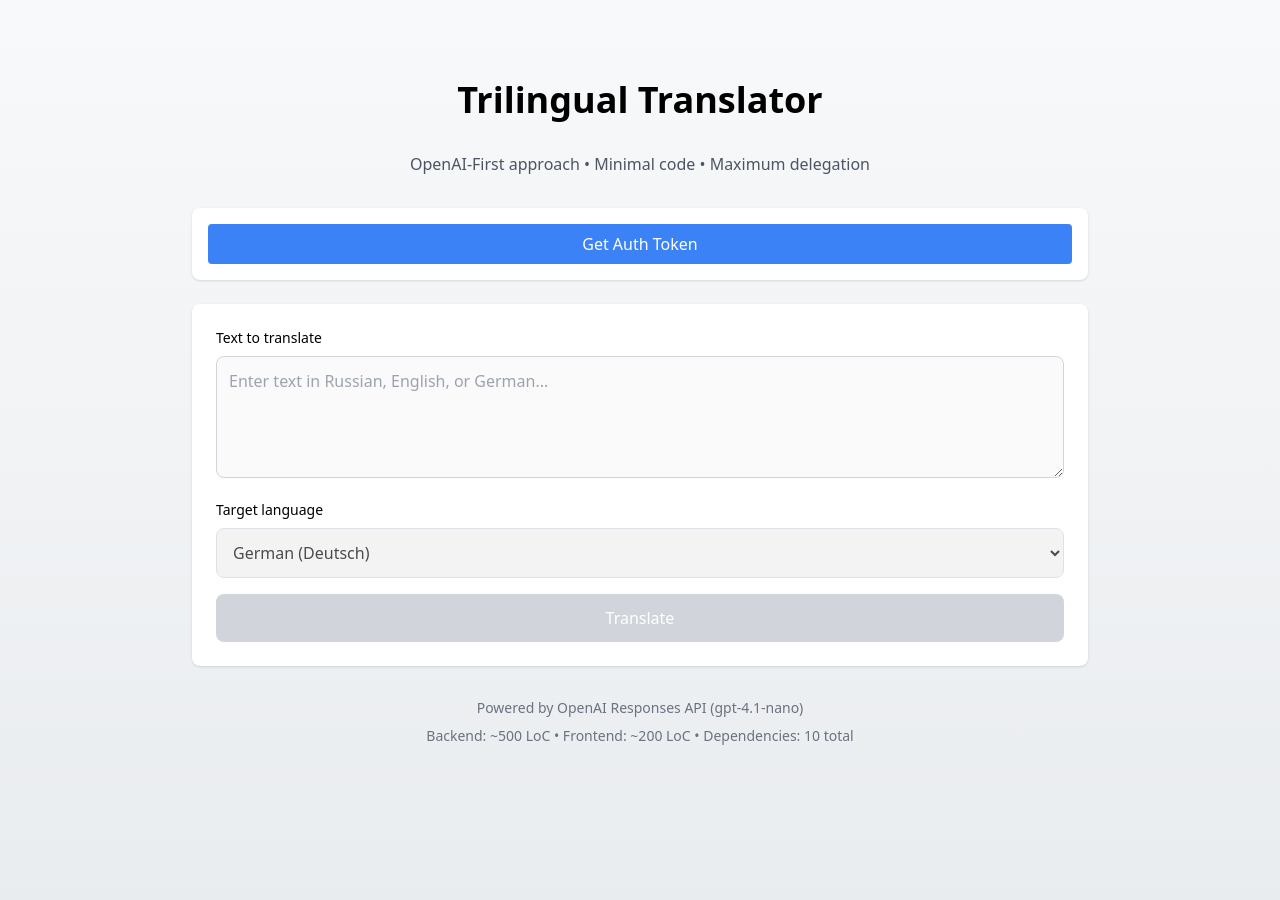
it: Home page › handles token retrieval error
This screenshot has width=1280, height=900.
Click the button "Get Auth Token" at (640, 244), box [208,224,1072,264]
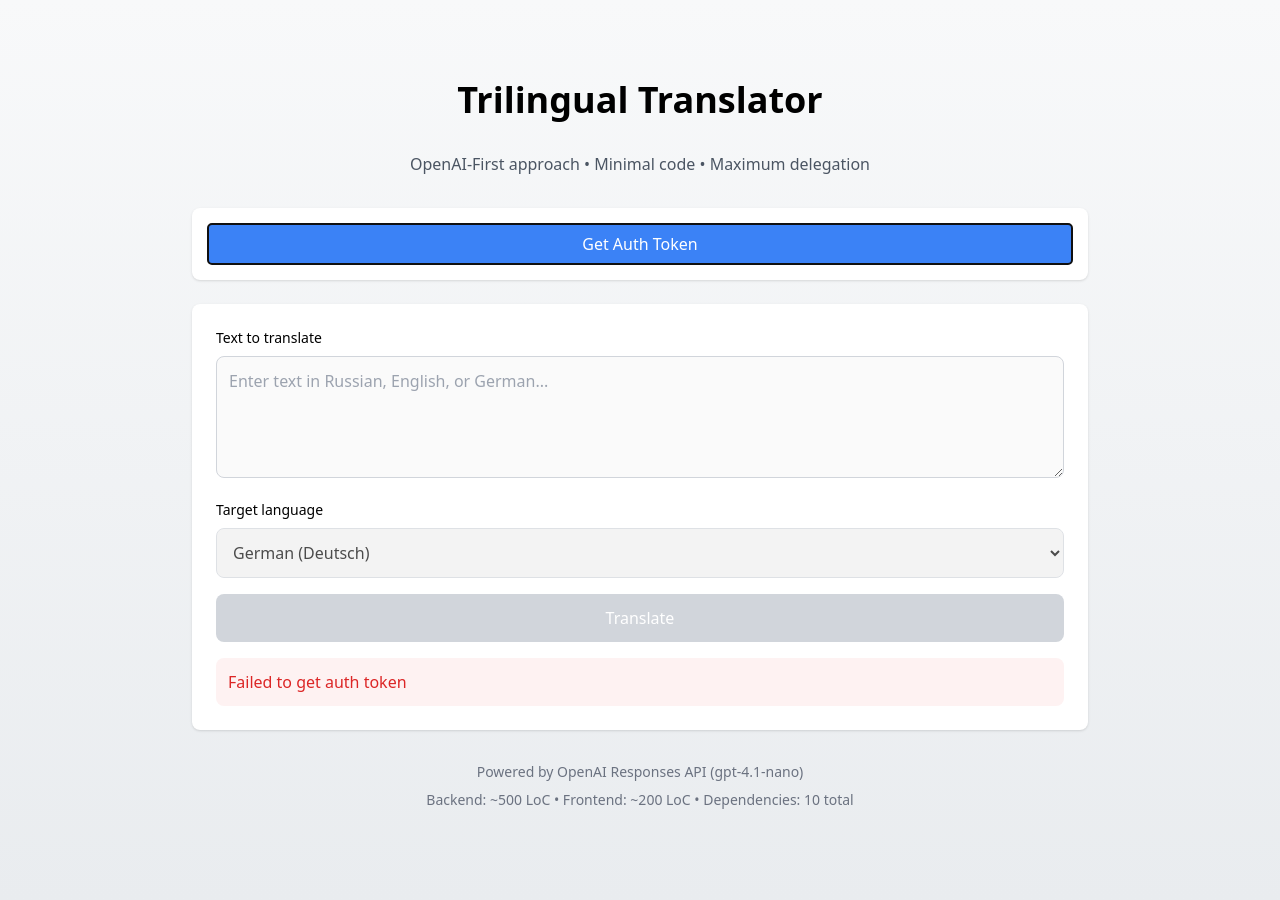
Result: the text "Failed to get auth token" is shown at [216,658,1064,706]
